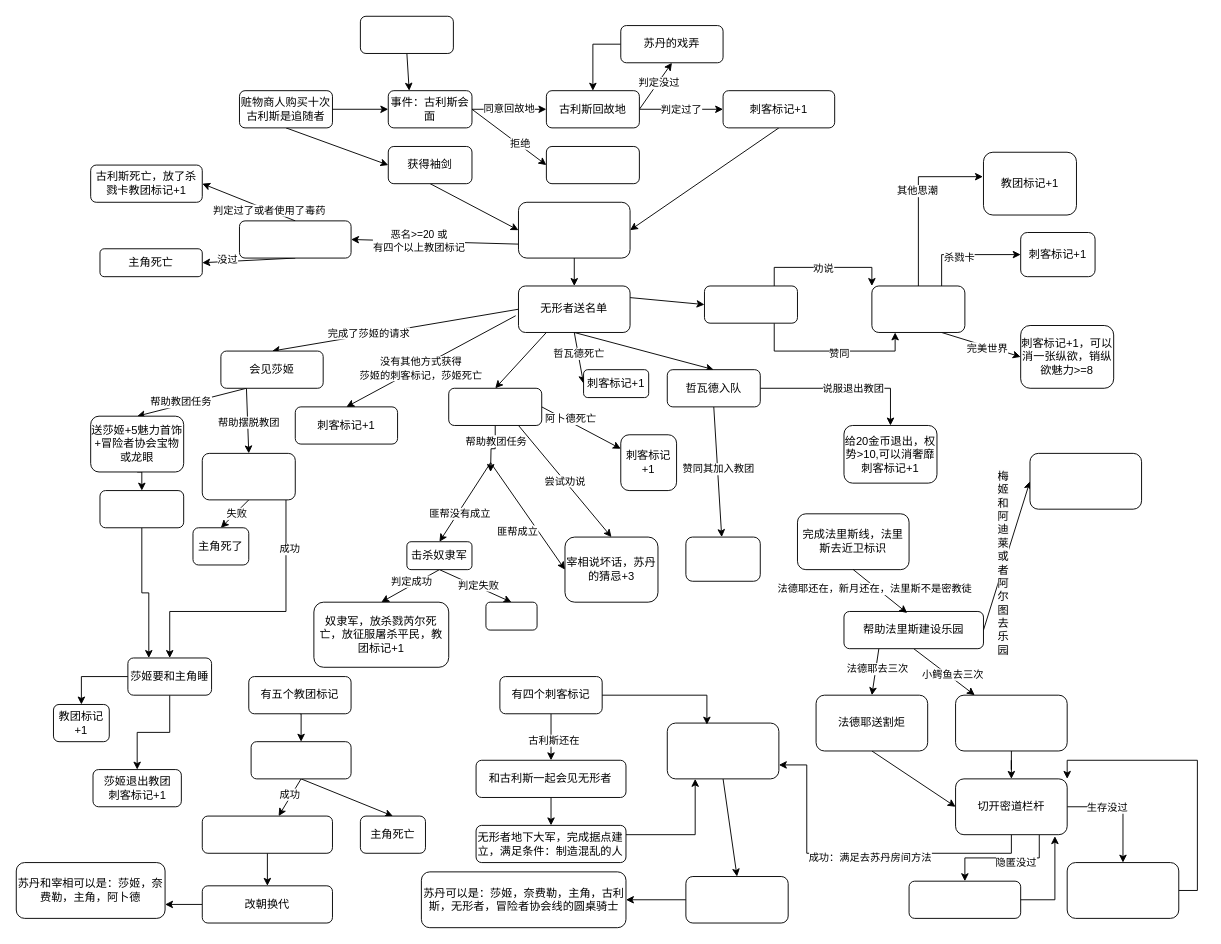
This 1221x944 diagram has some shape labels left out. Here are the shapes that lost their labels. From the top down, the centre of each, then its label:
At point (406, 34): "阅读佣兵笔记".
At point (592, 165): "侠名-1".
At point (295, 239): "古利斯刺杀".
At point (574, 229): "仪式：古利斯佩戴袖剑".
At point (750, 304): "会见伊玛尼".
At point (918, 308): "给正教打工5次以上".
At point (495, 406): "完成首次会见阿卜德".
At point (248, 476): "需要三支军队对付贵族和诸侯，需要一张征服".
At point (1085, 480): "幸福感+1".
At point (141, 509): "得到苏丹宠幸".
At point (722, 558): "金币+20， 教团标记+1".
At point (511, 615): "主角死".
At point (1011, 722): "发现去苏丹房间方法".
At point (300, 760): "无形者讨伐".
At point (722, 750): "开启结局方法：刺杀苏丹".
At point (266, 834): "获得思潮：圣殿骑士团".
At point (736, 899): "结局：兄弟会".
At point (964, 899): "伙伴死了，随机苏丹的戏弄".
At point (1122, 890): "伙伴死了".
